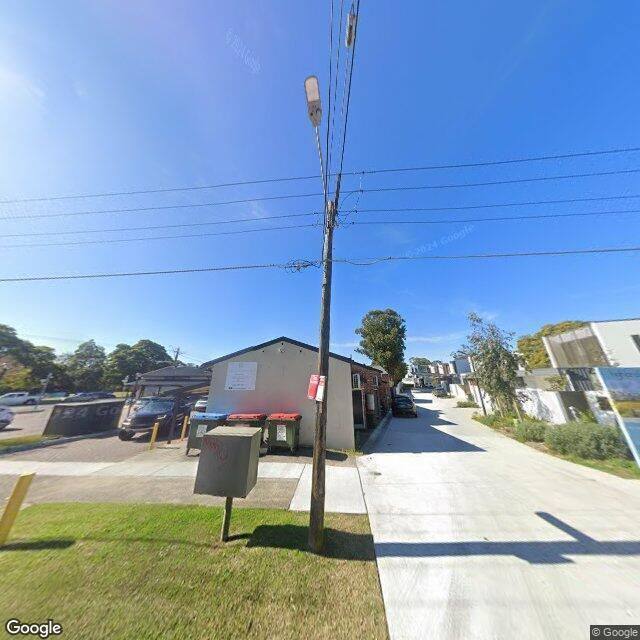crossarm: (331, 173, 343, 227)
streetlight: (304, 75, 330, 228)
timber-pole: (307, 201, 334, 553)
